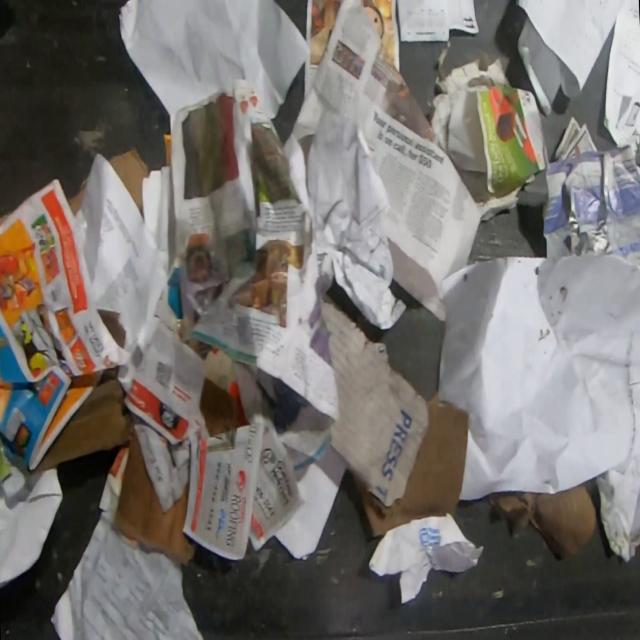cardboard: (32, 366, 201, 569), (319, 292, 430, 512), (356, 388, 470, 540), (430, 40, 514, 155), (488, 482, 598, 561), (107, 144, 150, 217), (200, 374, 244, 436), (454, 163, 496, 202), (66, 183, 85, 217)
